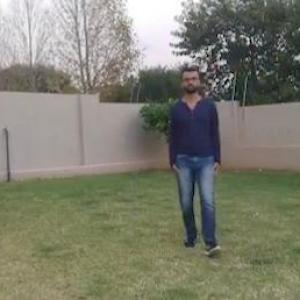follow: (172, 60, 221, 256)
